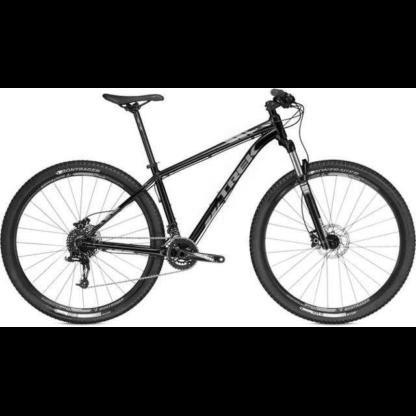Bicycle: (0, 88, 415, 323)
